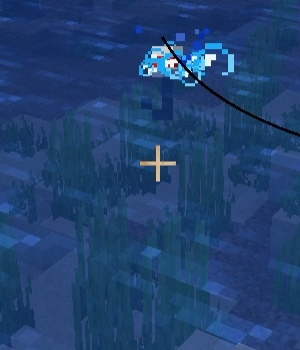up: (150, 37, 185, 120)
